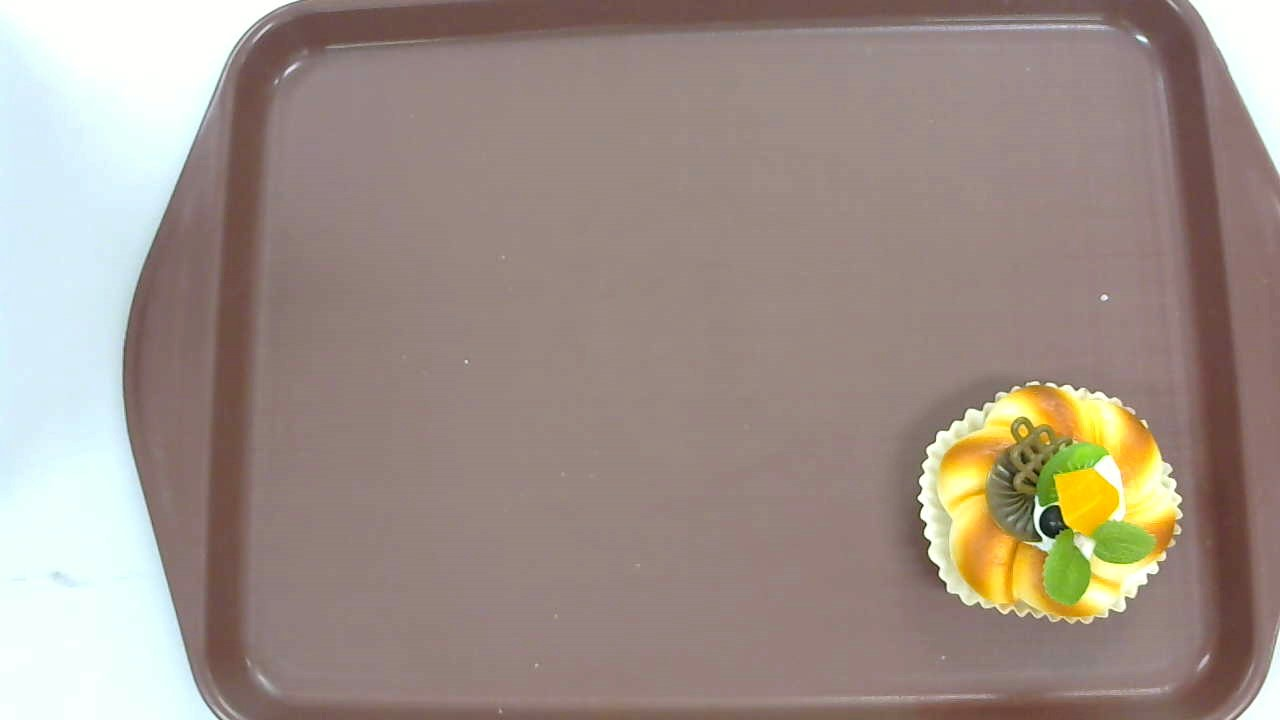fruit tart: (917, 379, 1182, 623)
